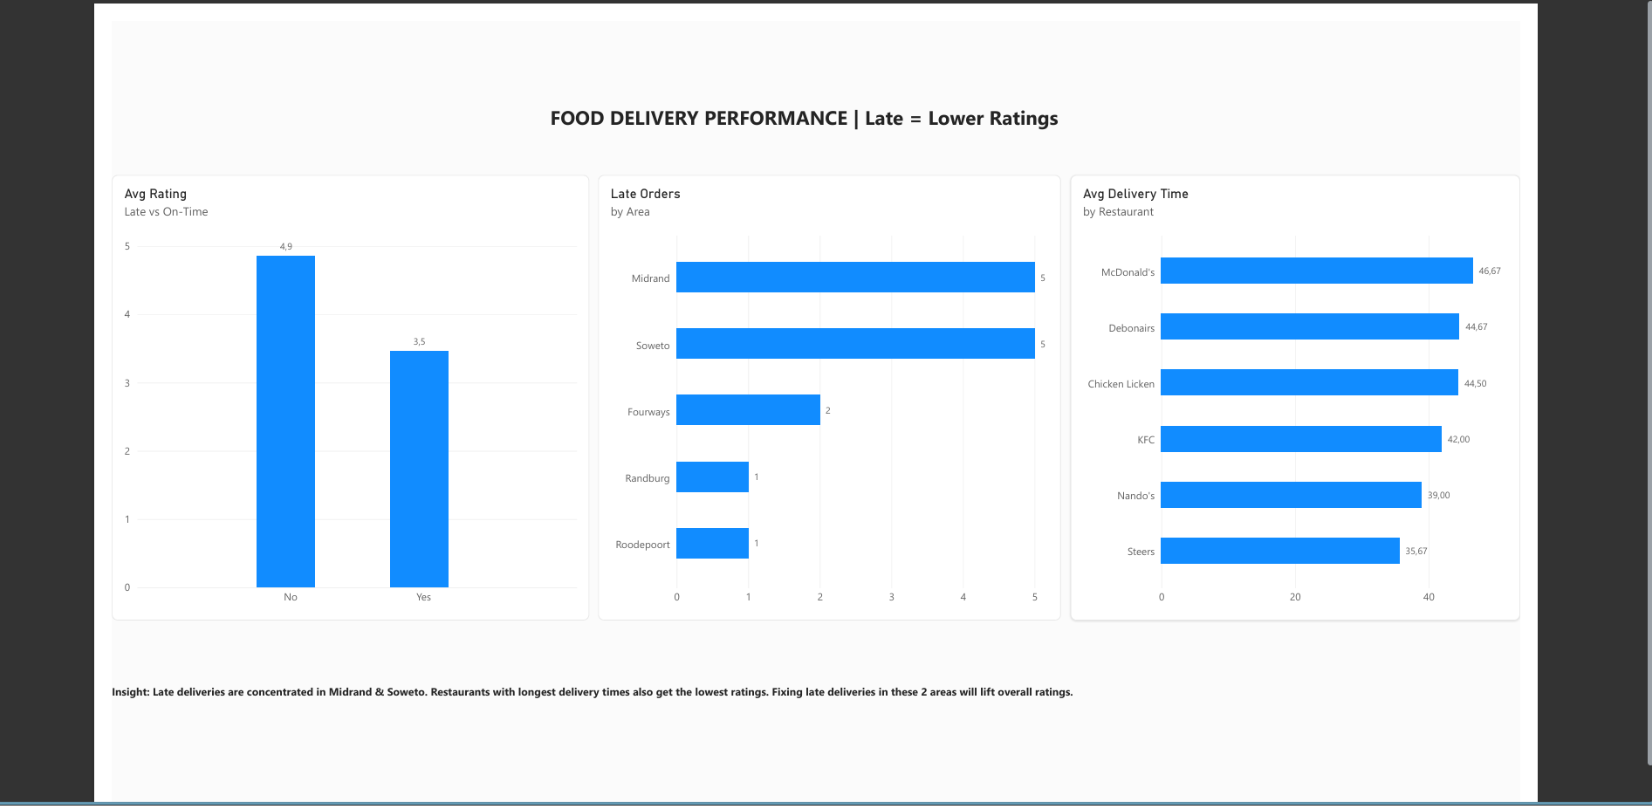

This screenshot's page, from the dashboard's own definition file:
{"tool":"powerbi","page":{"name":"Page 1","canvas":[1920,1080],"ordinal":0},"visuals":[{"type":"clusteredColumnChart","title":"Avg Rating","fields":{"Category":["delivery_clean.is_late"],"Y":["Avg(delivery_clean.driver_rating)"]},"box":[0,209.8,650.6,608.3],"z":0},{"type":"clusteredBarChart","title":"Late Orders","fields":{"Category":["delivery_clean.area"],"Y":["CountNonNull(delivery_clean.is_late)"]},"box":[663,209.8,631.2,608.3],"z":2},{"type":"clusteredBarChart","title":"Avg Delivery Time","fields":{"Category":["delivery_clean.restaurant"],"Y":["Avg(delivery_clean.delivery_time_mins)"]},"box":[1306.5,209.8,613.6,608.3],"z":3},{"type":"textbox","box":[505,111.7,878.3,43.3],"z":4},{"type":"textbox","box":[0,904.5,1320.6,176.3],"z":5}]}

Visuals, with their boxes on the page's 1920x1080 design canvas (x1, y1, x2, y2). These are canvas units, not pixel positions in the 1652x806 screenshot, which may show the page scaled, cropped or inside an application window:
"Avg Rating" clusteredColumnChart: left=0, top=210, right=651, bottom=818
"Late Orders" clusteredBarChart: left=663, top=210, right=1294, bottom=818
"Avg Delivery Time" clusteredBarChart: left=1306, top=210, right=1920, bottom=818
textbox: left=505, top=112, right=1383, bottom=155
textbox: left=0, top=904, right=1321, bottom=1081
